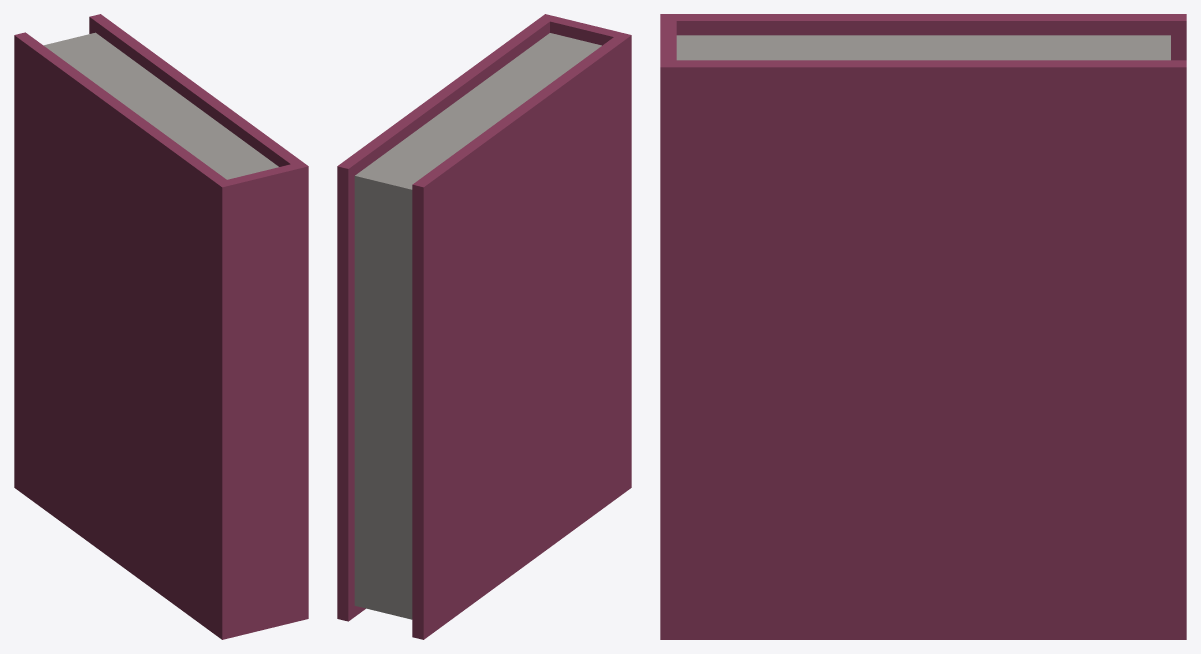
File: SM_Props_Interior_Generic_Office_File_Small_03.fbx
3 renders of one model, left to right at view 1: azimuth 30°, elevation 25°; view 2: azimuth 150°, elevation 25°; view 3: azimuth 270°, elevation 25°, orthographic. The views are drawn at different scales.
Visible parts, largest first — view 1: SM_Props_Interior_Generic_Office_File_Small_03; view 2: SM_Props_Interior_Generic_Office_File_Small_03; view 3: SM_Props_Interior_Generic_Office_File_Small_03.
Boxes of the visible parts, <box> form: SM_Props_Interior_Generic_Office_File_Small_03: <box>14,14,308,639</box>; SM_Props_Interior_Generic_Office_File_Small_03: <box>337,14,631,639</box>; SM_Props_Interior_Generic_Office_File_Small_03: <box>660,14,1186,639</box>.
Bounding box in the file's own units: 7.2 × 36 × 30.
